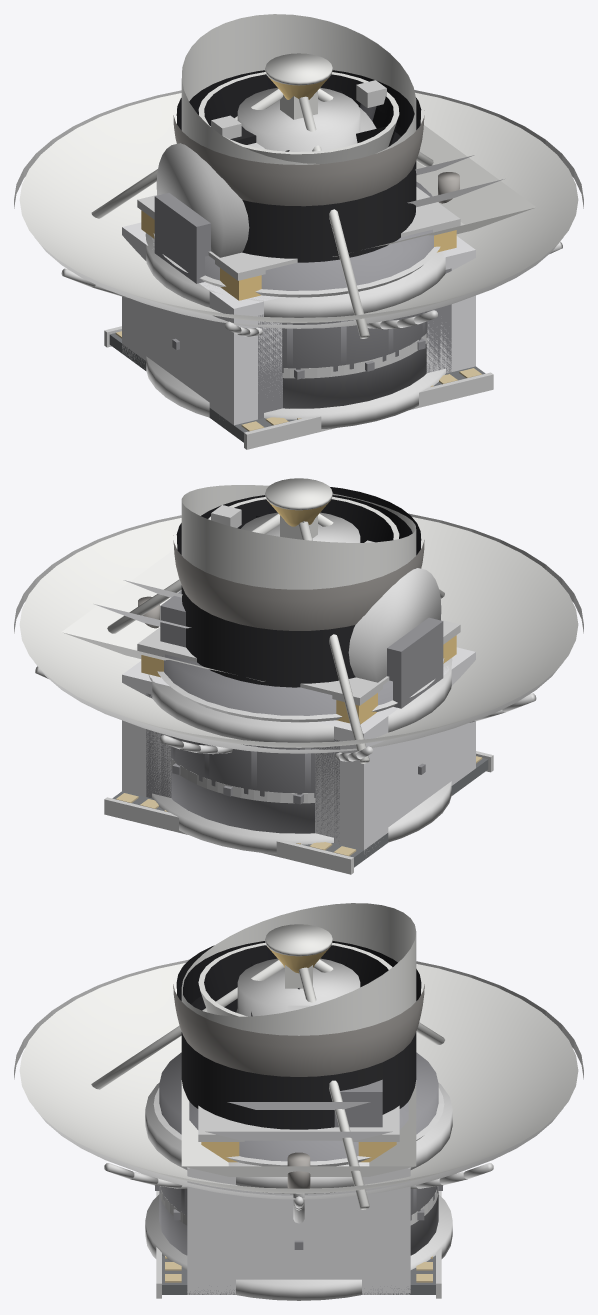
Rendered from craft_kit.glb.
3 renders of one model, top to bottom at view 1: azimuth 30°, elevation 25°; view 2: azimuth 150°, elevation 25°; view 3: azimuth 270°, elevation 25°, orthographic.
Parts seen in each view (by area): view 1: Reflector, Body, Sunshade, Housing.001, Barrel, Bell, Collar, ScanDrum, Cooler0, Shaft, Mount, Chamber.001 (+21 smaller); view 2: Reflector, Body, Sunshade, Housing.001, Barrel, Bell, Collar, ScanDrum, Mount, Chamber.001, Cooler0, DrumMount-1 (+20 smaller); view 3: Reflector, Body, Sunshade, Barrel, Bell, Housing.001, Mount, Cooler0, Shaft, Collar, BaffleIn, Back (+18 smaller).
Part boxes in pixels (x1,y1,x2,y2): Reflector: [19, 92, 578, 322]; Body: [122, 222, 475, 425]; Sunshade: [181, 14, 416, 164]; Housing.001: [205, 181, 433, 408]; Barrel: [242, 161, 416, 262]; Bell: [173, 110, 424, 206]; Collar: [145, 233, 445, 323]; ScanDrum: [156, 107, 376, 257]; Cooler0: [333, 123, 536, 256]; Shaft: [237, 87, 360, 151]; Mount: [146, 356, 445, 428]; Chamber.001: [282, 311, 427, 372]; Reflector: [19, 517, 578, 747]; Body: [122, 647, 475, 853]; Sunshade: [181, 485, 416, 589]; Housing.001: [164, 654, 392, 833]; Barrel: [181, 585, 355, 687]; Bell: [173, 535, 424, 630]; Collar: [148, 658, 452, 748]; ScanDrum: [348, 568, 441, 682]; Mount: [152, 781, 451, 853]; Chamber.001: [170, 736, 315, 797]; Cooler0: [61, 547, 264, 681]; DrumMount-1: [387, 617, 443, 708]; Reflector: [19, 963, 578, 1193]; Body: [187, 1163, 410, 1294]; Sunshade: [181, 903, 416, 1035]; Barrel: [181, 1032, 416, 1129]; Bell: [173, 984, 424, 1076]; Housing.001: [159, 1052, 438, 1255]; Mount: [145, 1194, 452, 1300]; Cooler0: [181, 1080, 416, 1176]; Shaft: [237, 958, 360, 1016]; Collar: [145, 1082, 452, 1194]; BaffleIn: [204, 945, 388, 1012]; Back: [34, 1108, 563, 1199].
Bounding box in the file's own units: 2.04 × 1.32 × 2.04.
